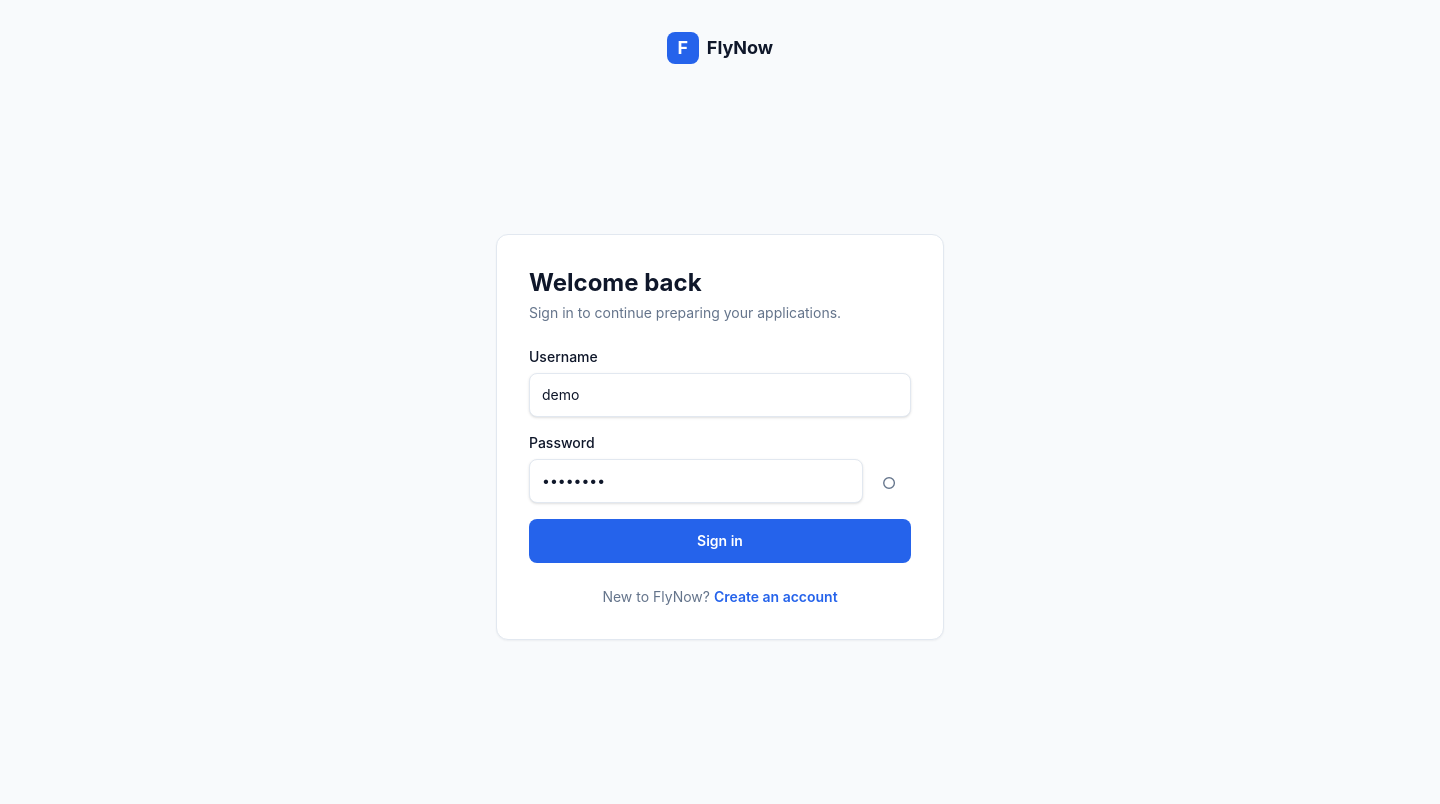
Test: authentication › logs in and returns to the originally requested route
Expected: the heading "Welcome back" is shown, [529,268,702,297]
Click the button "Sign in" at (720, 541), box [529,519,911,563]
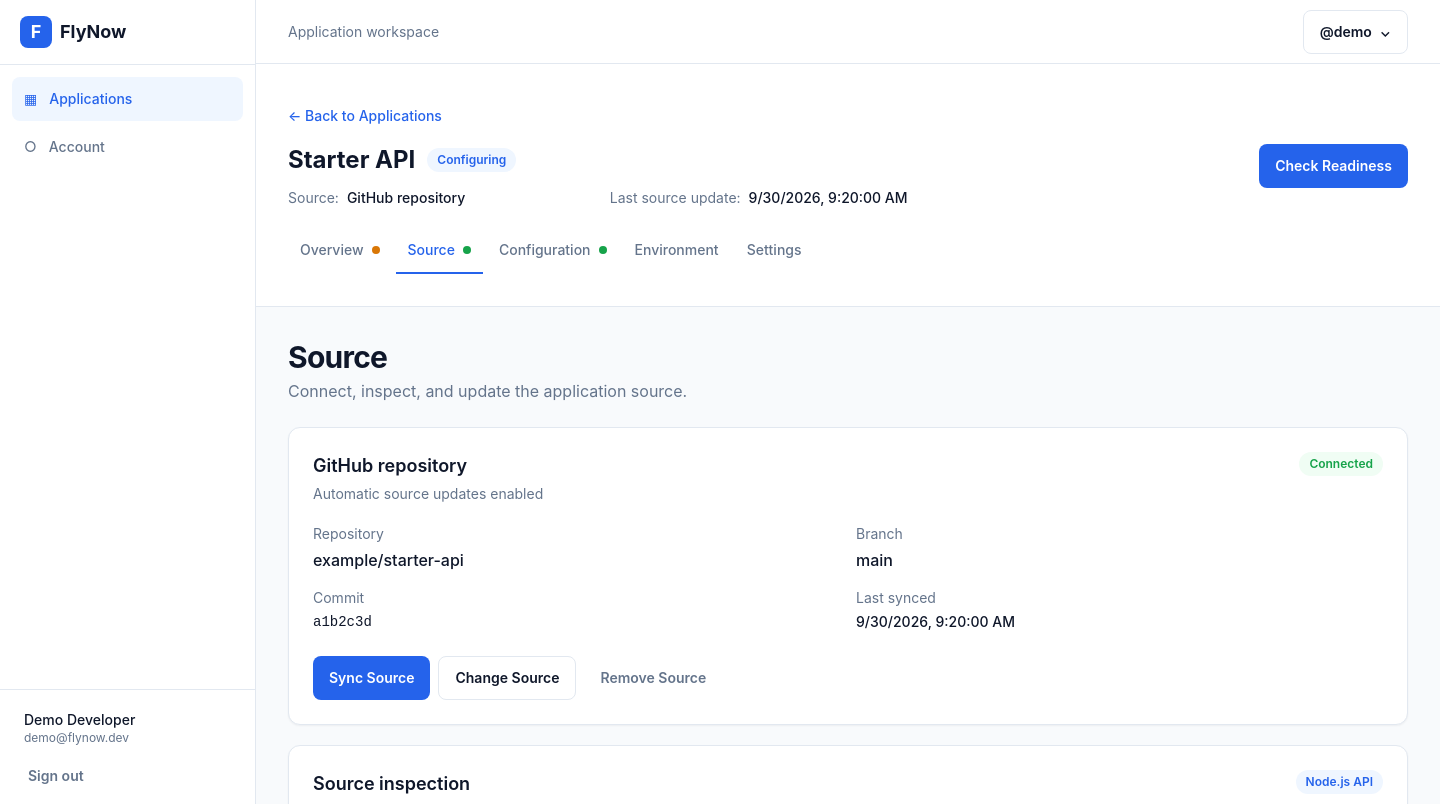
Expected: the heading "Source" is shown, [288,339,387,375]
